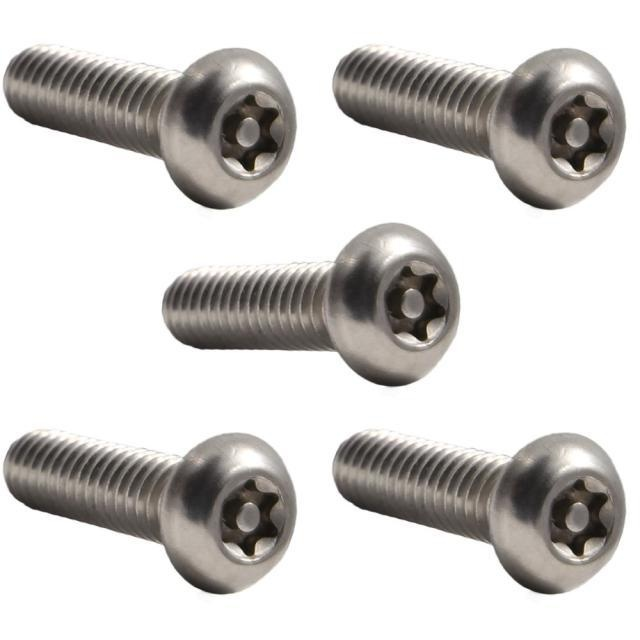torx: (161, 46, 299, 212), (165, 430, 299, 596), (329, 223, 462, 388), (494, 431, 626, 597), (495, 44, 628, 208)
